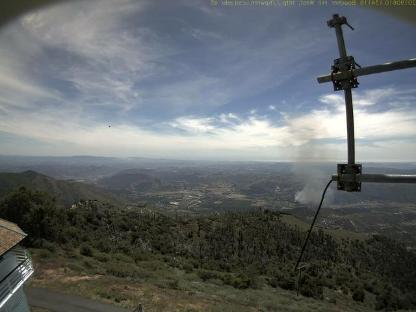smoke: (296, 121, 336, 204)
